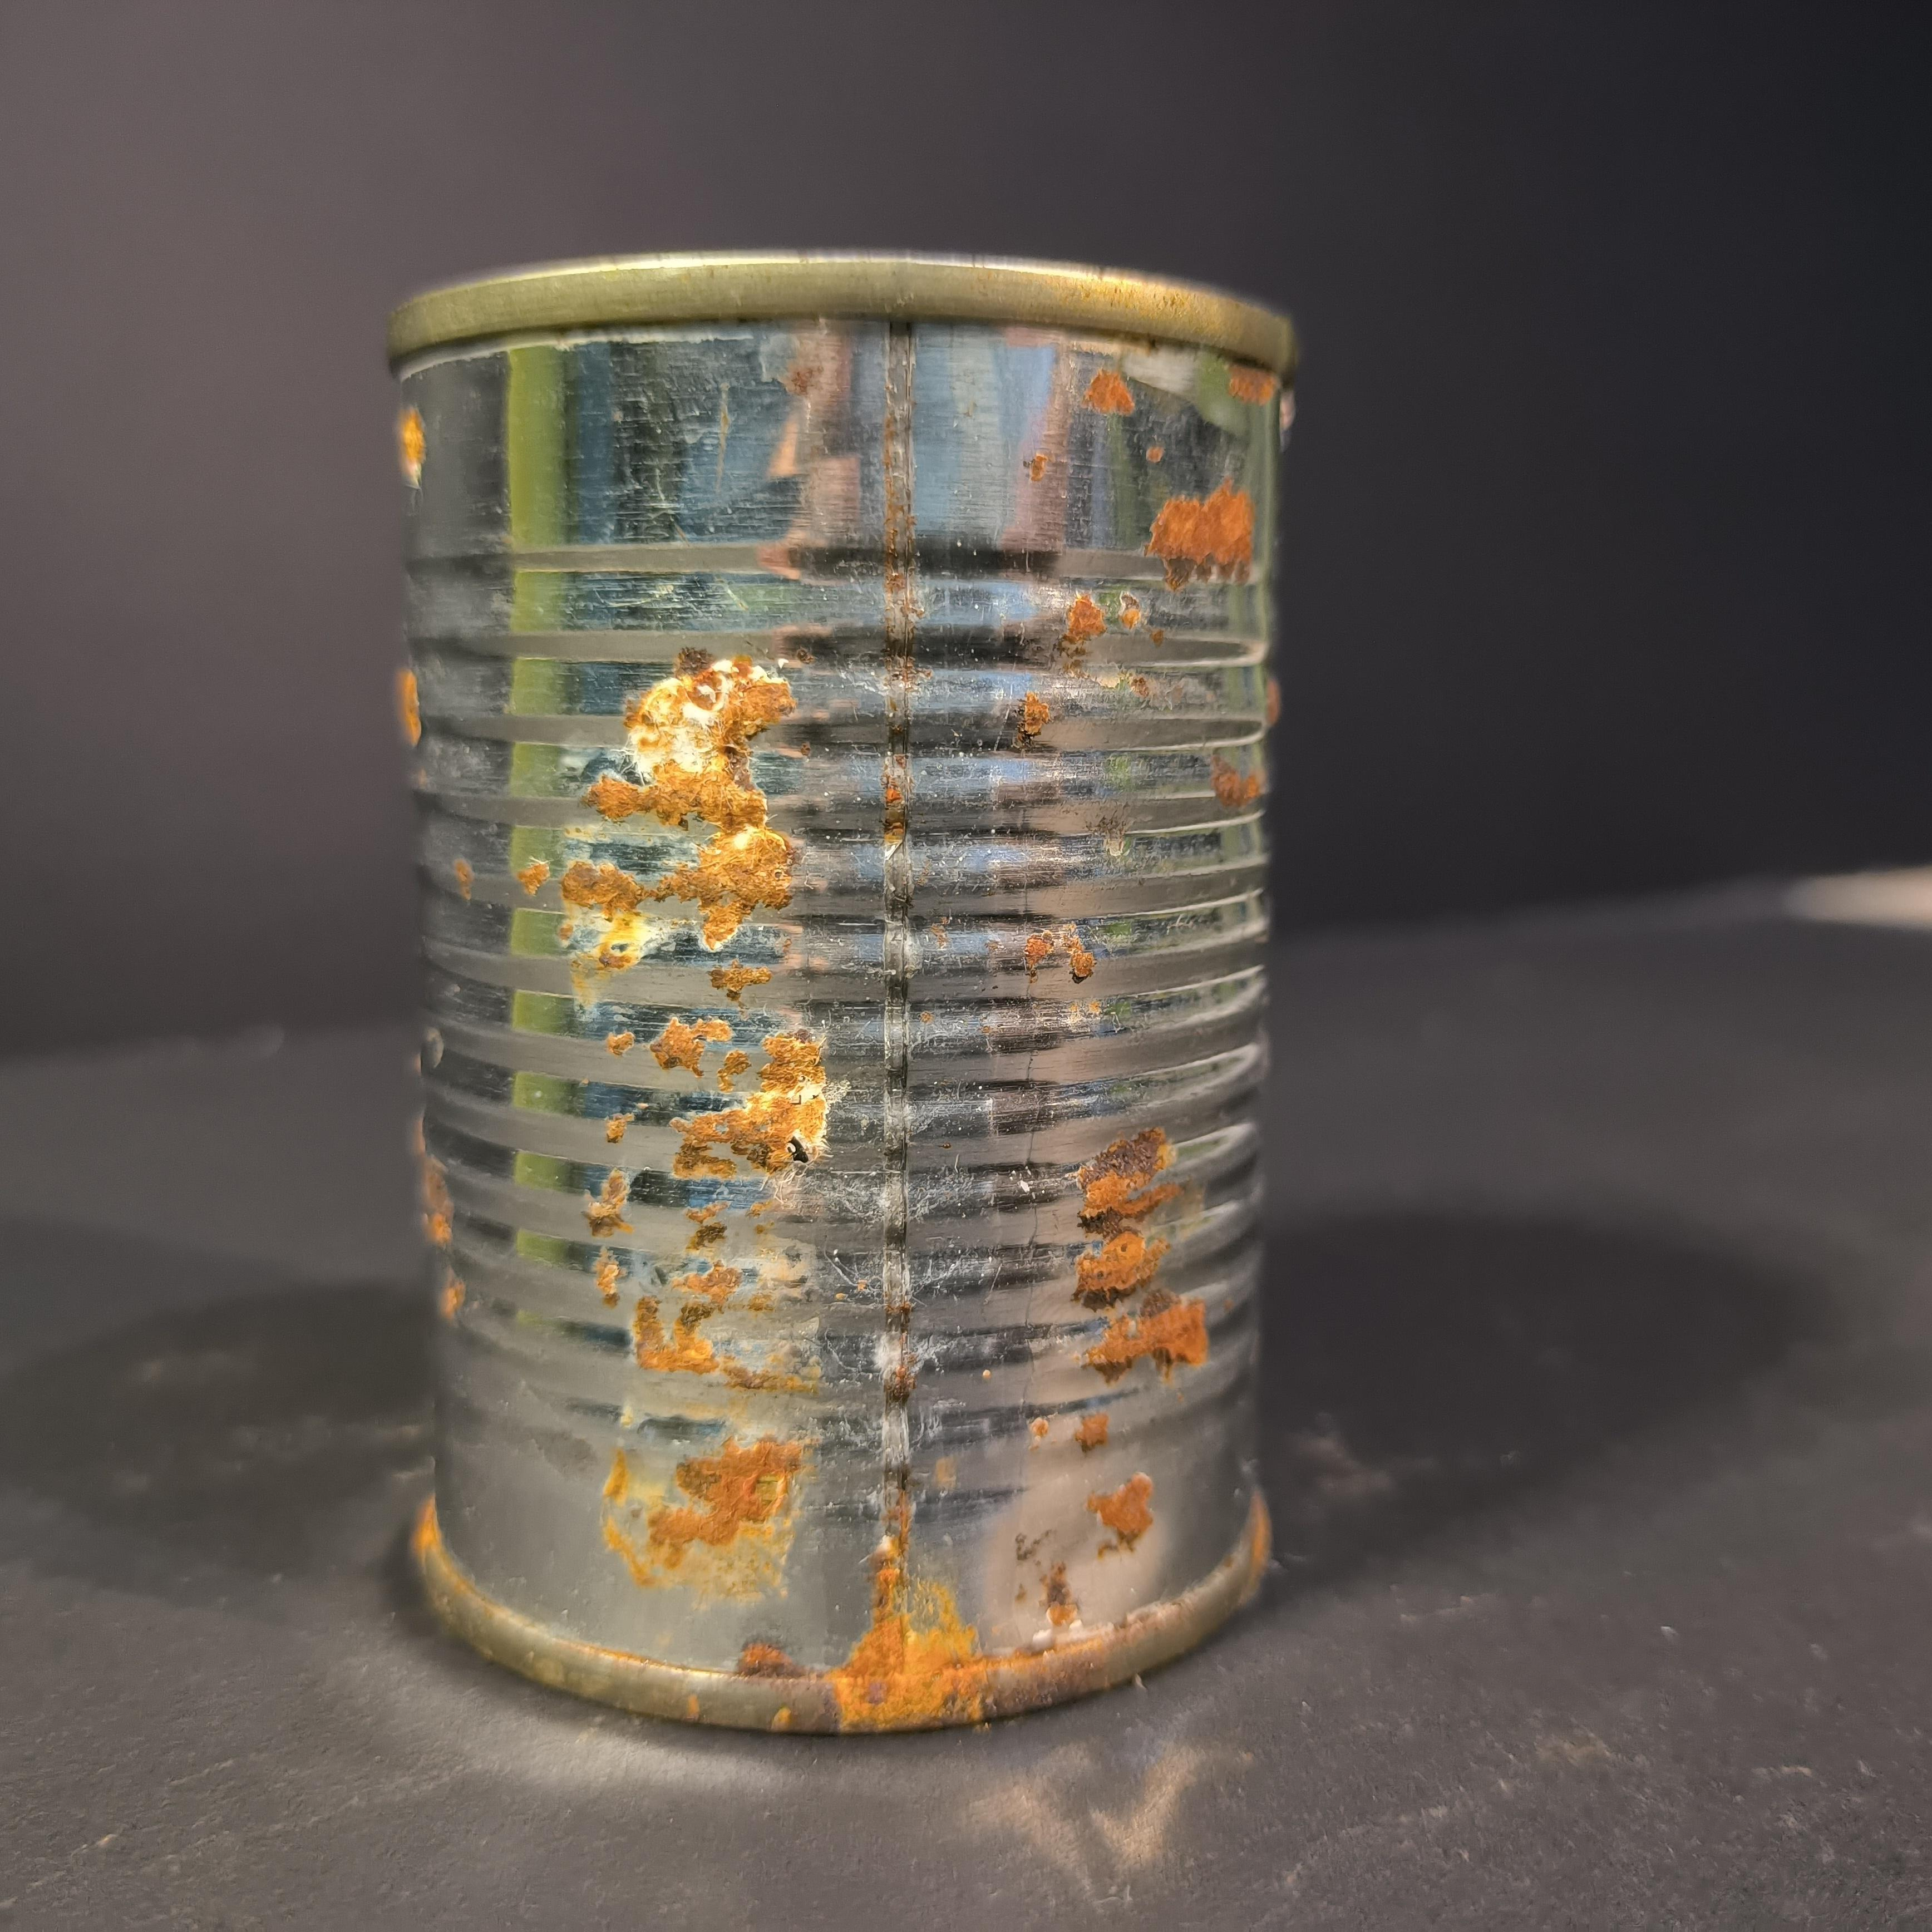Rusted: (356, 242, 1318, 1725)
